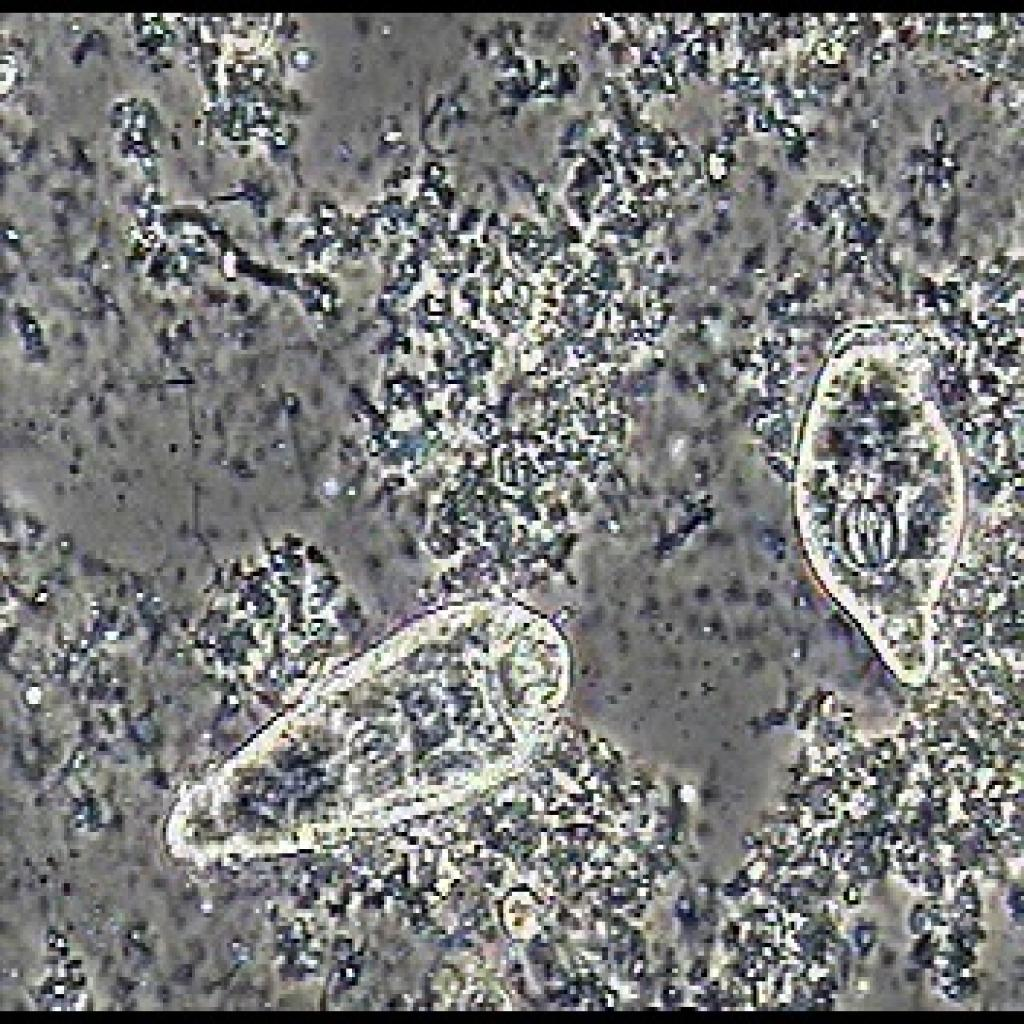Rotatoria: (125, 559, 602, 892), (754, 312, 980, 712)
